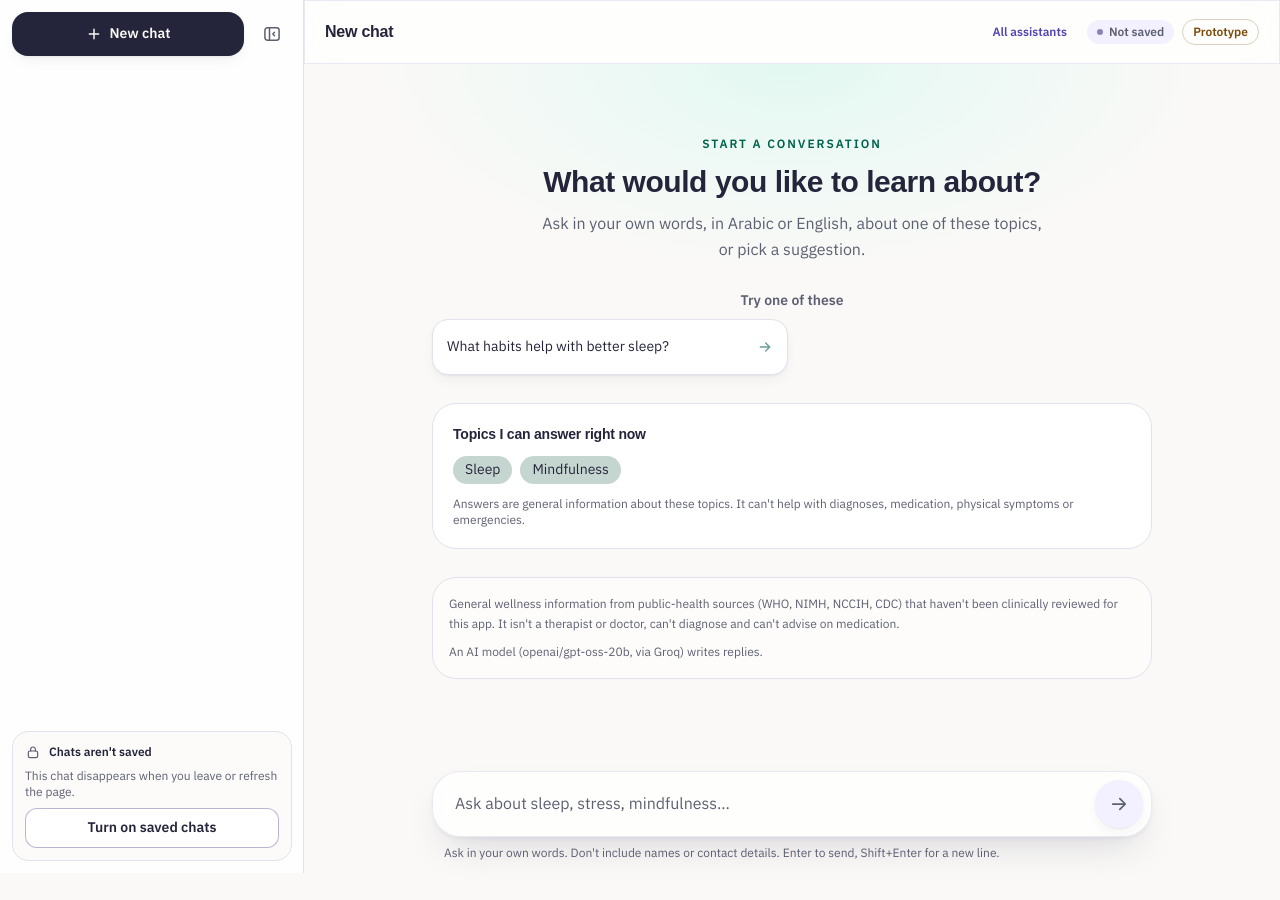
Test: chat workspace › sends a typed question and renders a formatted, cited answer
Type "How can I sleep better at night?" into the text box named "Ask a general question" at point(764, 804), box [441, 780, 1087, 828]
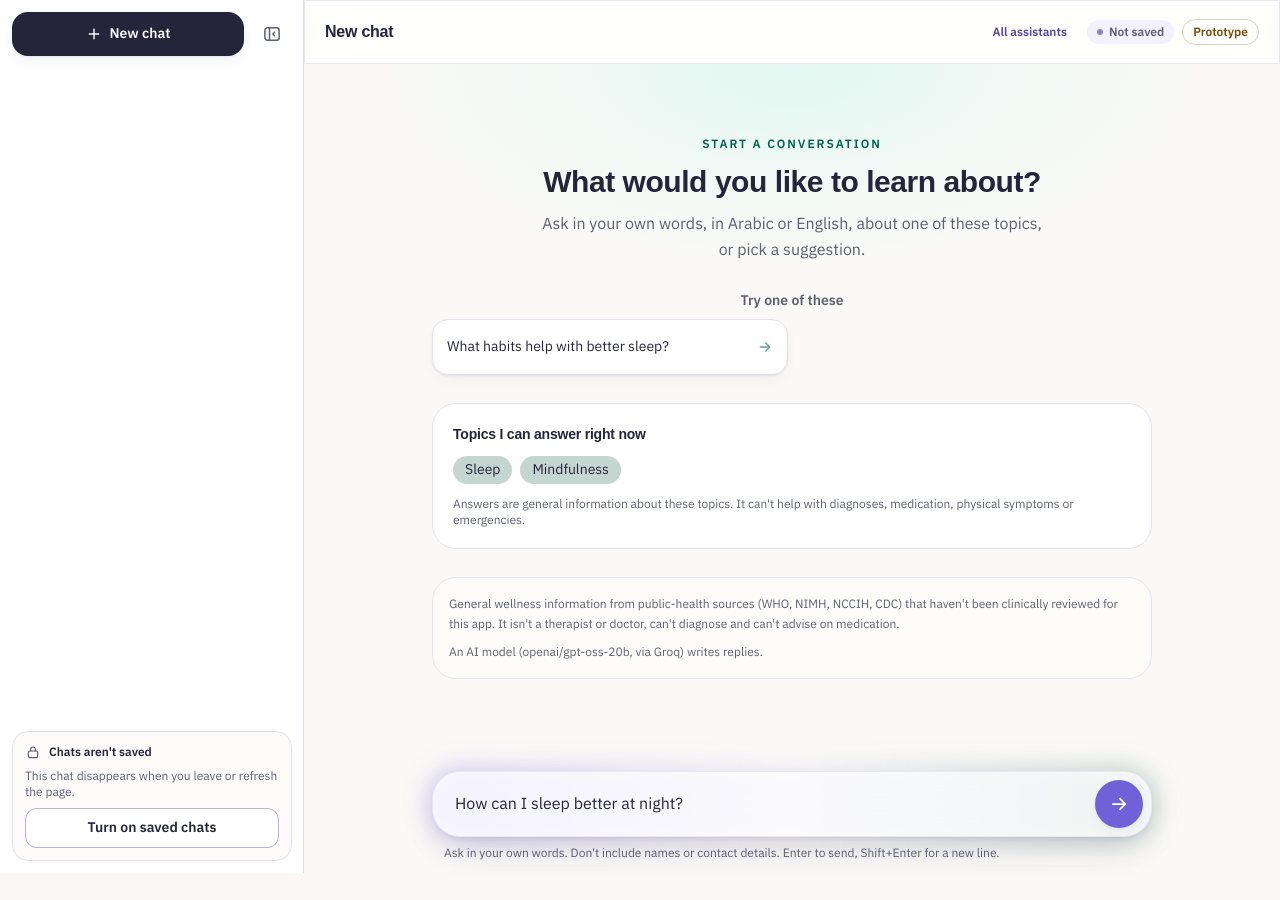
Click the button named "Send" at point(1119, 804), box [1095, 780, 1143, 828]
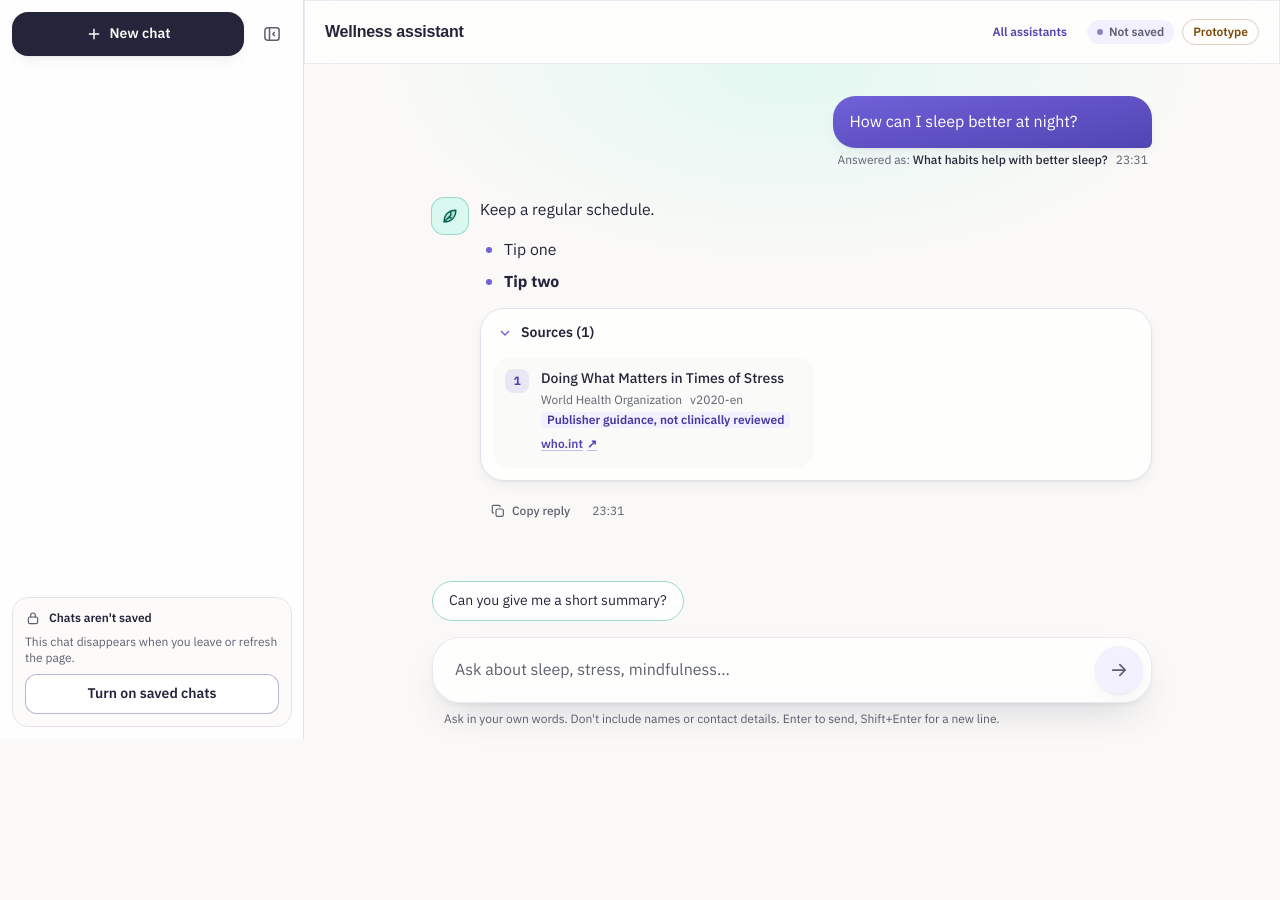
Now the text "Tip one" is shown, box [504, 238, 556, 262]
Now the text "Answered as: What habits help with better sleep?" is shown, box [838, 152, 1108, 168]
Now the heading "Sources (1)" is shown, box [497, 322, 594, 343]
